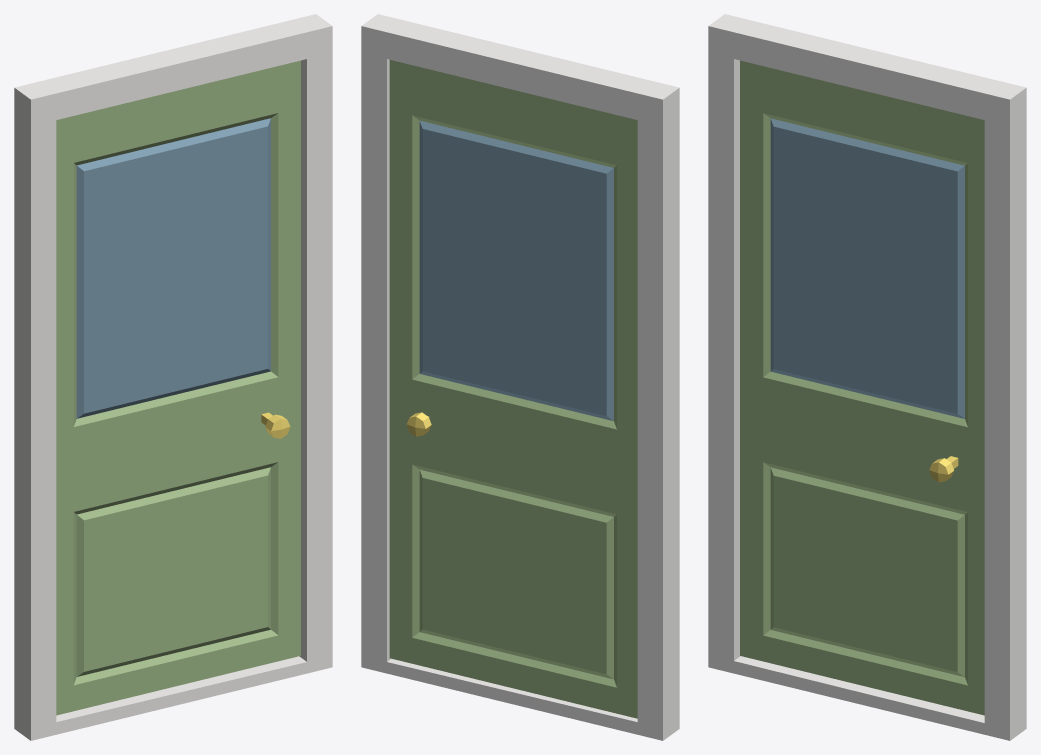
Rendered from Door_3.fbx.
The picture shows the model from 3 angles, left to right: view 1: azimuth 30°, elevation 25°; view 2: azimuth 150°, elevation 25°; view 3: azimuth 330°, elevation 25°; orthographic projection.
Visible parts, largest first — view 1: Door_3; view 2: Door_3; view 3: Door_3.
Boxes of the visible parts, <box> form: Door_3: <box>14,14,332,740</box>; Door_3: <box>361,14,679,740</box>; Door_3: <box>708,14,1026,740</box>.
Bounding box in the file's own units: 153 × 30.69 × 311.
